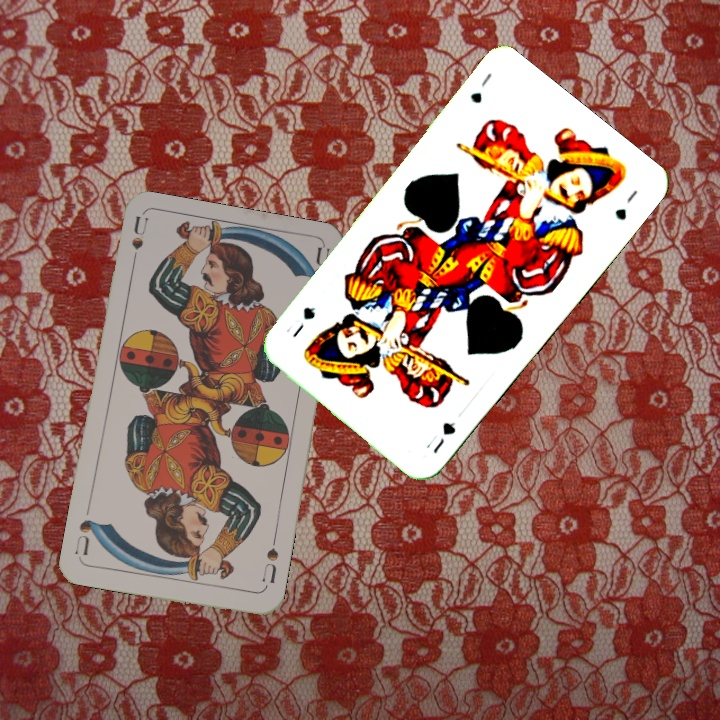GU: (429, 417, 459, 457), (465, 68, 495, 106)
SU: (127, 214, 151, 273), (257, 533, 281, 586)
